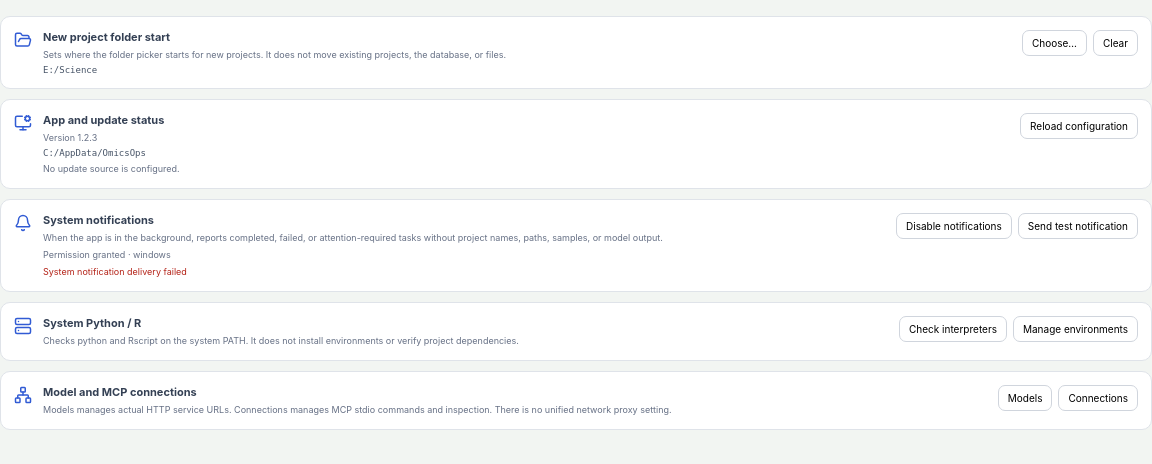
Test case: GeneralAdvancedSettings › sends an explicit test and keeps a visible native failure
The width and height of the screenshot is (1152, 464).
Expected: the text "System notification delivery failed" is shown, [43,266,187,277]
What coordinates should you click on to do the following:
click the button "Send test notification"
I would click on:
 (1078, 226)
Its box is [1018,213,1138,239].
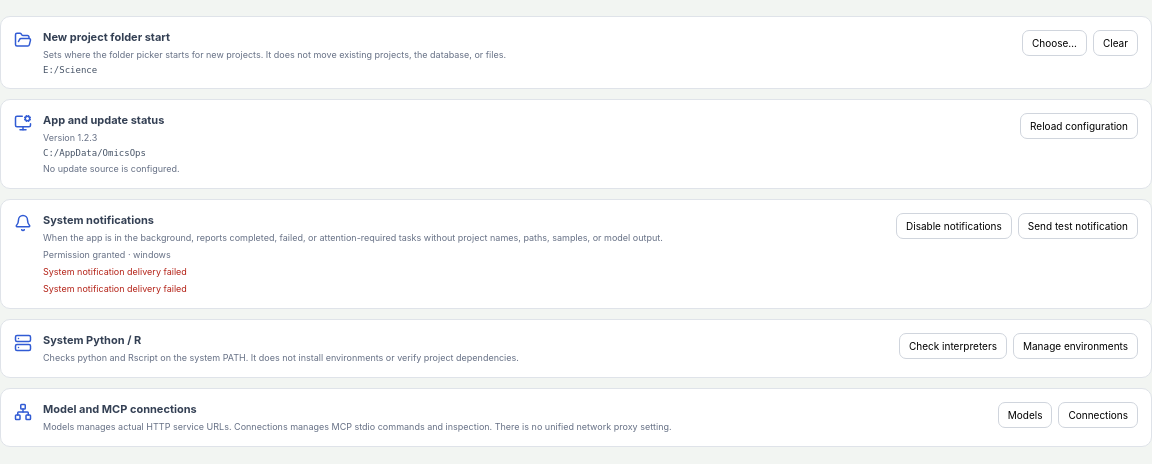
Now the message reads "System notification delivery failed", box [43,283,187,294]
